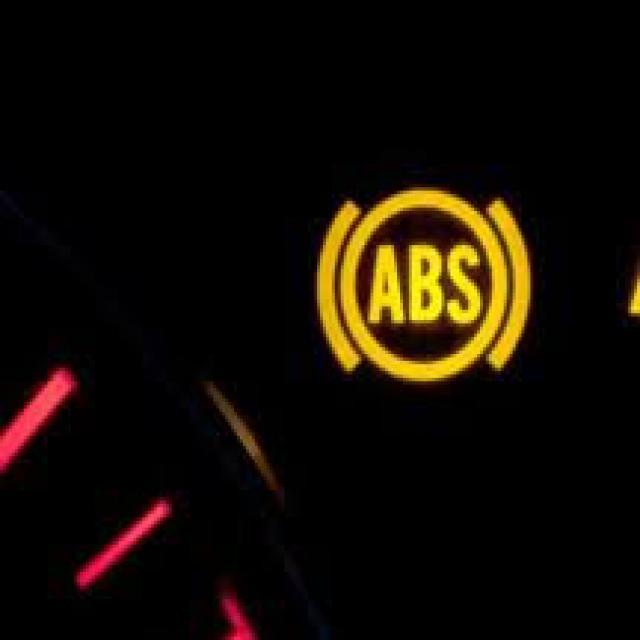ABS: (314, 175, 534, 381)
